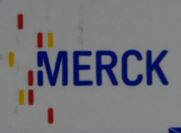Merck: (6, 13, 170, 127)
